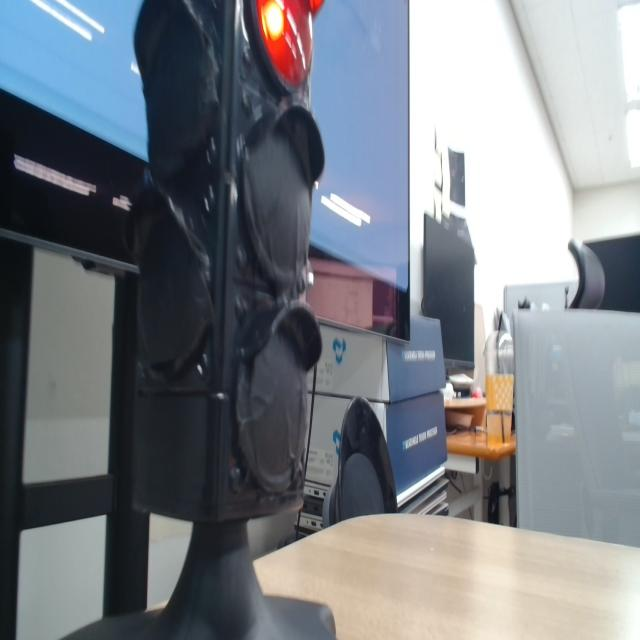red_light: (256, 0, 312, 88), (261, 0, 284, 40), (310, 0, 323, 15)
